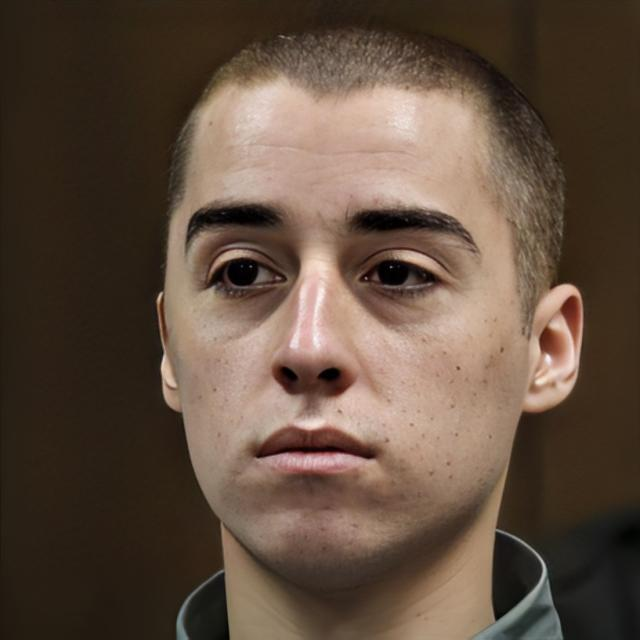sad: (164, 84, 524, 582)
